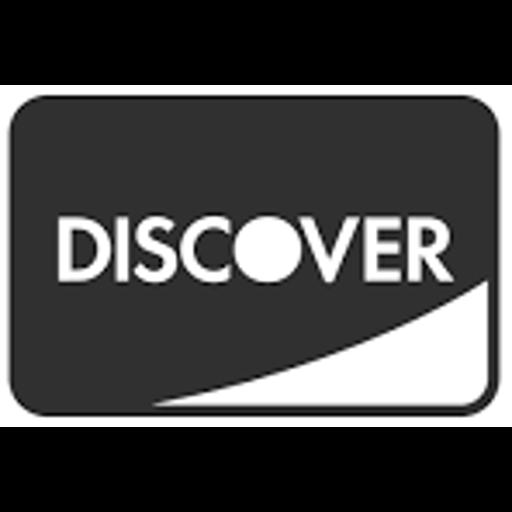Discover: (0, 85, 512, 427)
